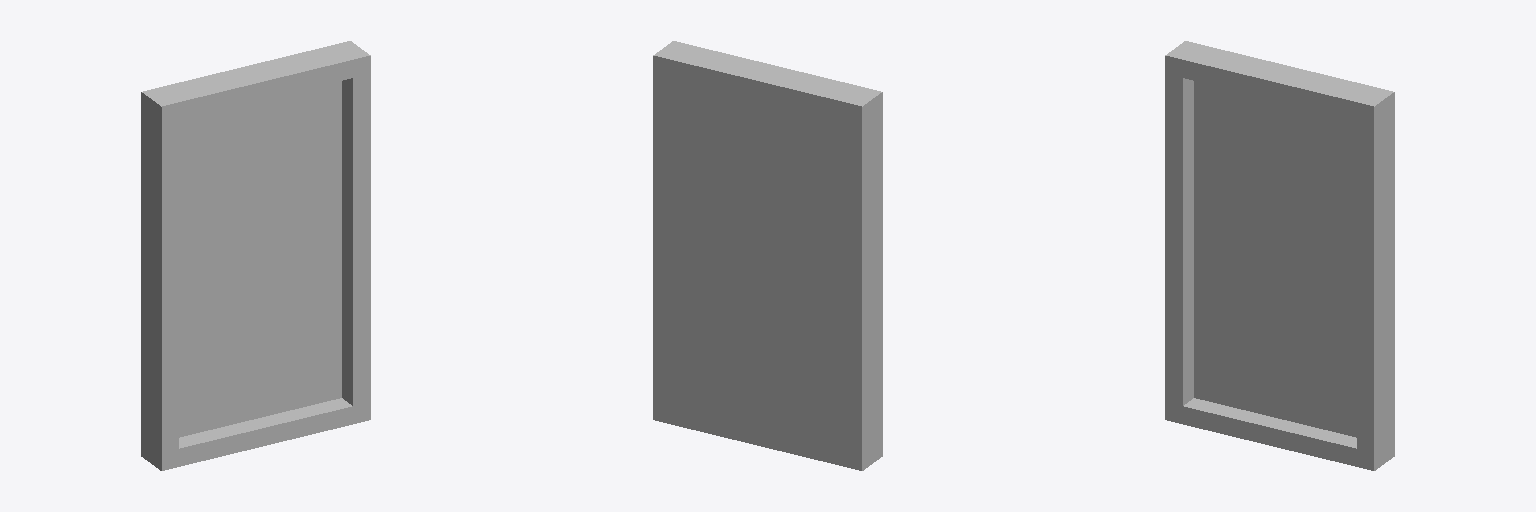
File: comp_window.obj
3 views of the same model, side by side, from view 1: azimuth 30°, elevation 25°; view 2: azimuth 150°, elevation 25°; view 3: azimuth 330°, elevation 25° (orthographic).
Parts seen in each view (by area): view 1: pCube2; view 2: pCube2; view 3: pCube2.
Boxes of the visible parts, <box> form: pCube2: <box>141,41,370,470</box>; pCube2: <box>653,41,882,470</box>; pCube2: <box>1165,41,1394,470</box>.
Bounding box in the file's own units: 1.2 × 2 × 0.2.